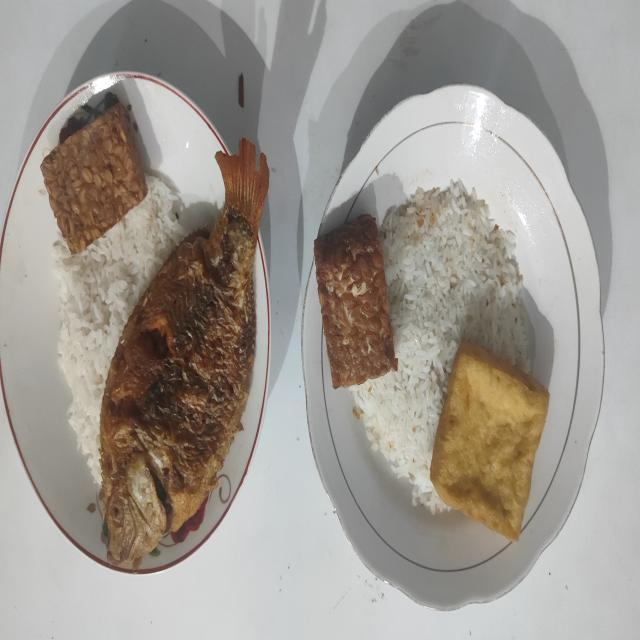ikan_mujair: (100, 140, 269, 568)
nasi_putih: (350, 181, 530, 514), (54, 178, 186, 484)
tahu_goreng: (430, 342, 549, 542)
tempe_goreng: (40, 102, 148, 254), (314, 214, 398, 388)
